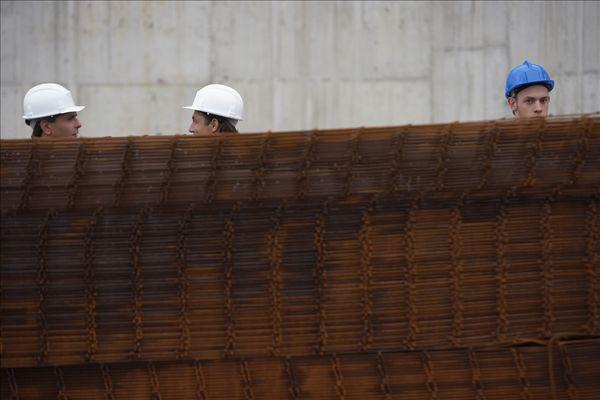helmet: (15, 77, 91, 150), (180, 80, 255, 145), (498, 57, 559, 129)
